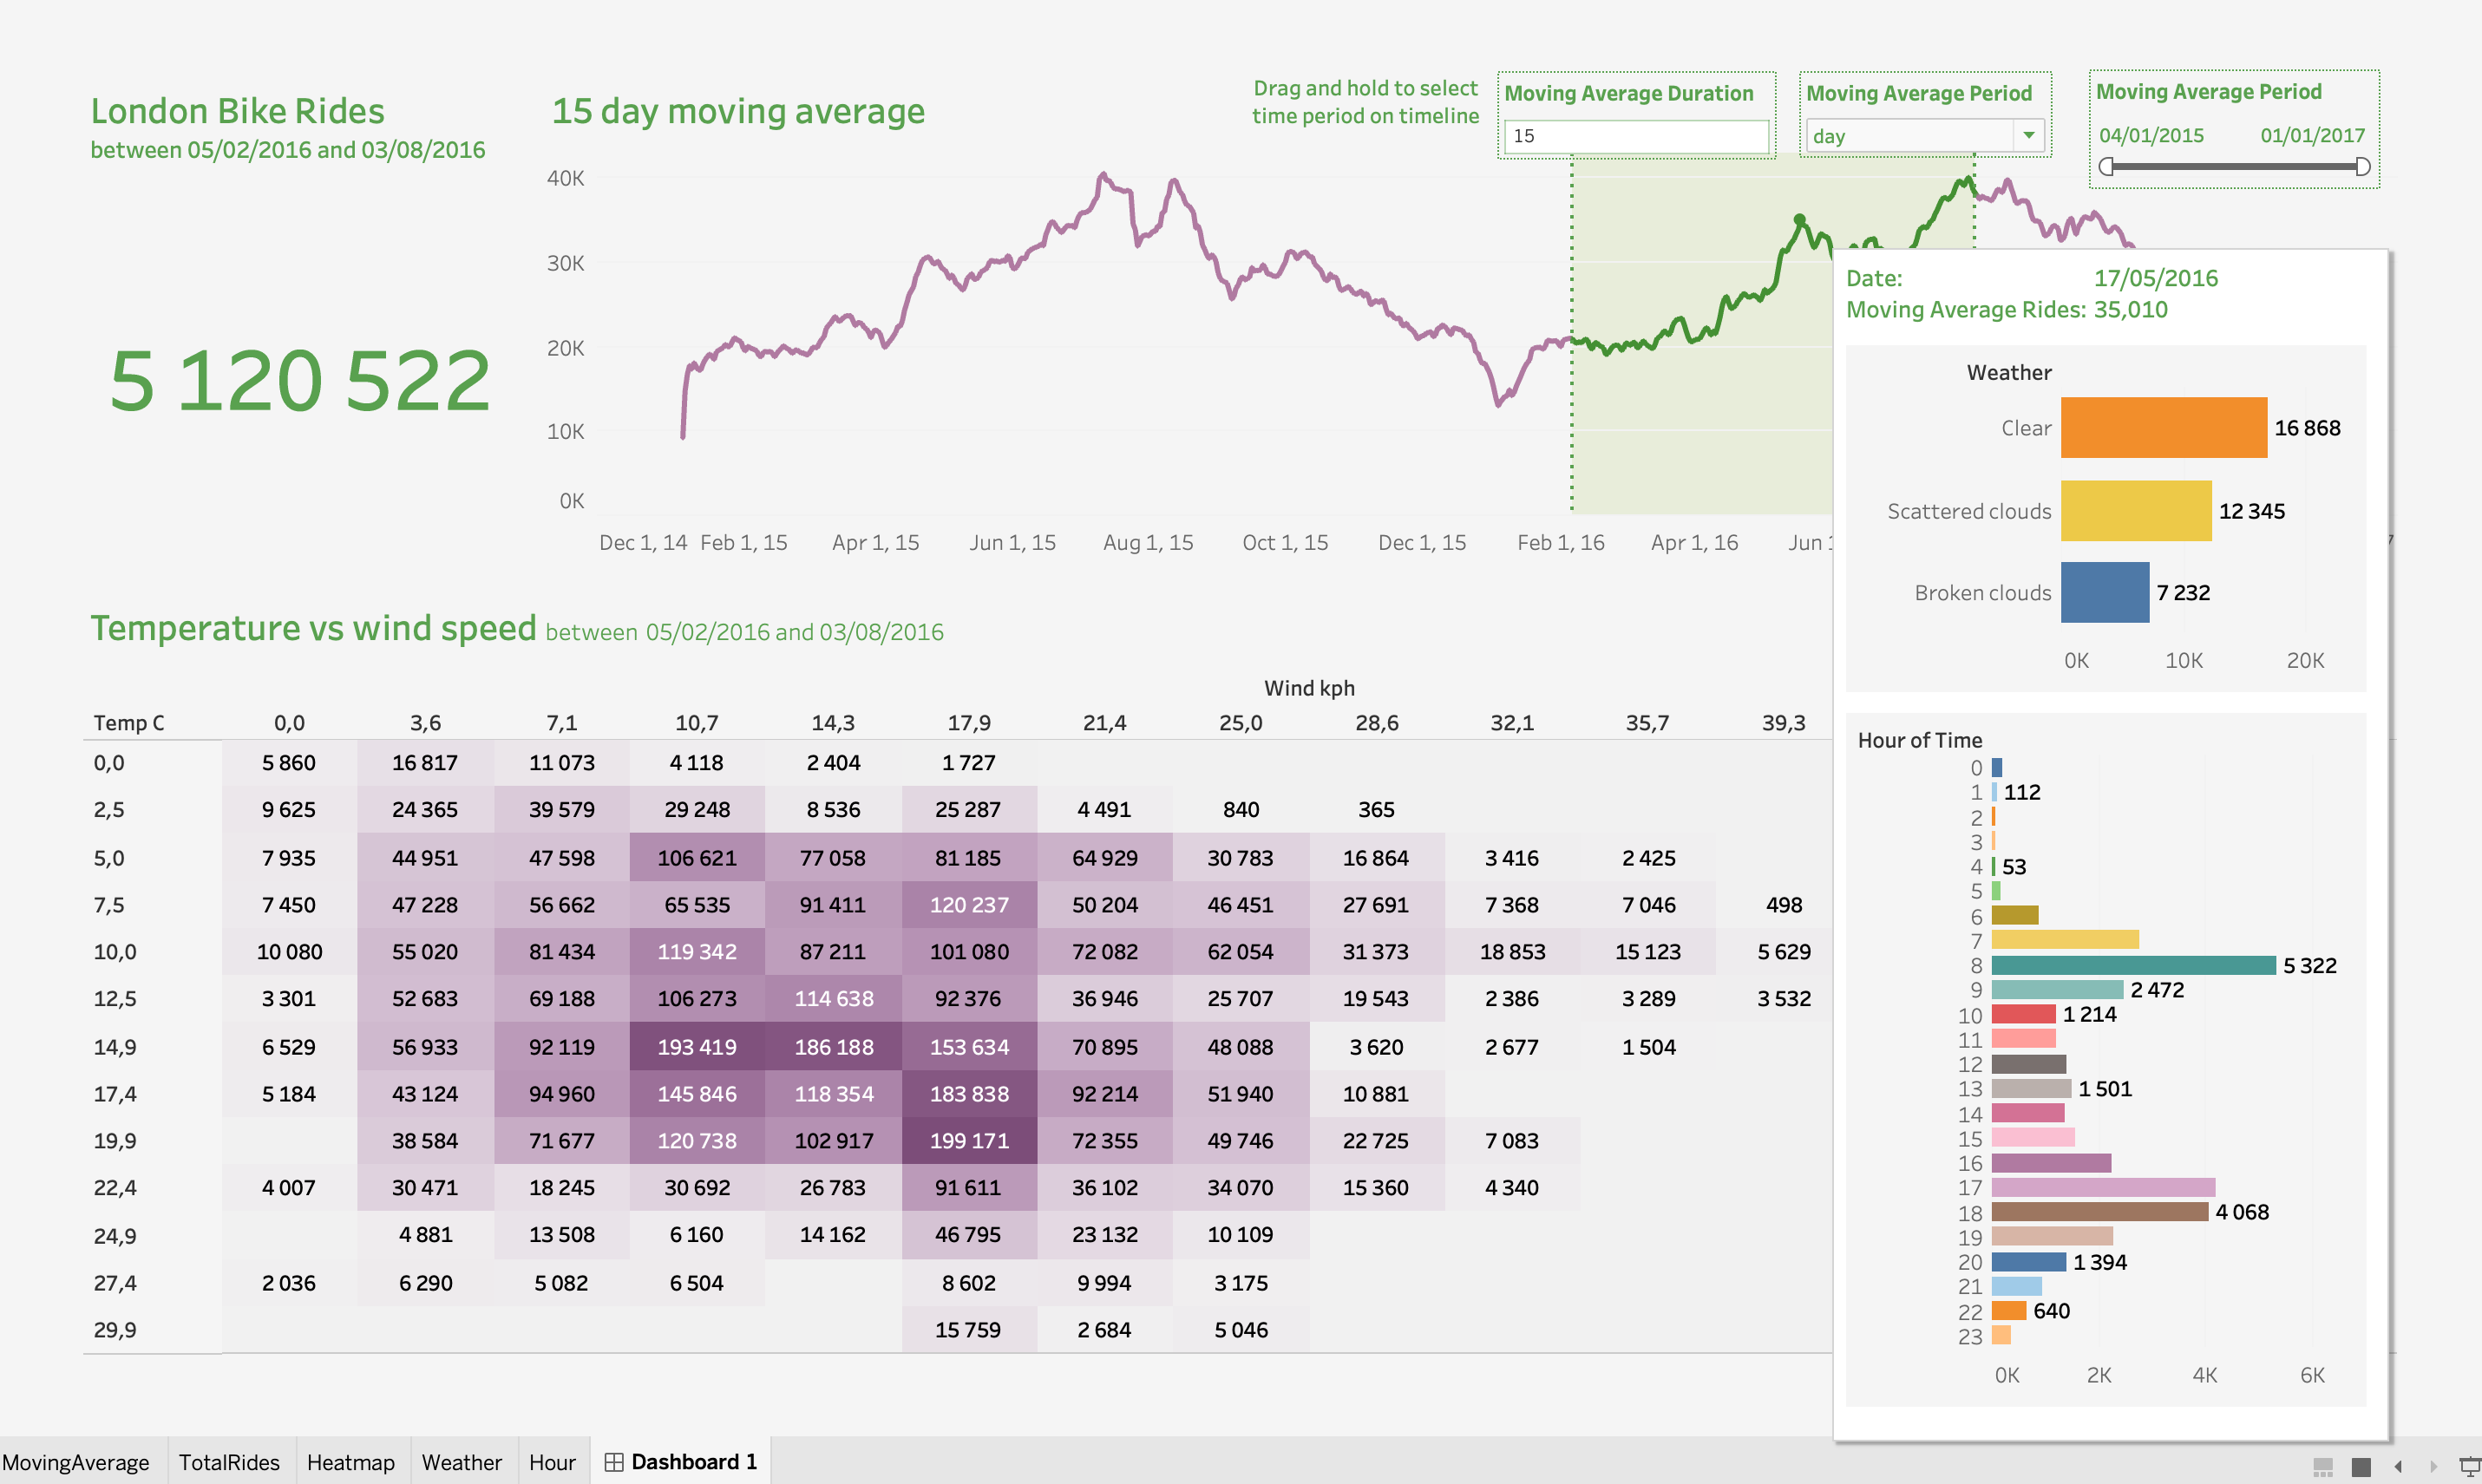

The dashboard page shown, as its layout file describes it:
{"tool":"tableau","page":{"name":"Dashboard 1","canvas":[1366,768],"ordinal":0},"visuals":[{"type":"worksheet","title":"TotalRides","mark":"Automatic","box":[8,8,265.9,298]},{"type":"worksheet","title":"MovingAverage","mark":"Automatic","rows":["Calculation1"],"cols":["Calculation_1322439863427854336"],"box":[274,8,1084,298]},{"type":"filter","title":"MovingAverage","param":"[federated.1qezdbj0tncxus19n7epf0rcv4oh].[none:Calculation_1322439863427854336:q","box":[1172,11,168,69]},{"type":"parameter","param":"[Parameters].[Parameter 2]","box":[831,12,161,51]},{"type":"parameter","param":"[Parameters].[Parameter 1]","box":[1005,12,146,50]},{"type":"text","box":[687,13,137,34]},{"type":"worksheet","title":"Heatmap","mark":"Square","rows":["temp real C (bin)"],"cols":["Wind Speed Kph (bin)"],"box":[8,306,1350,454]}]}

Visuals, with their boxes on the page's 1366x768 design canvas (x1, y1, x2, y2). These are canvas units, not pixel positions in the 2482x1484 screenshot, which may show the page scaled, cropped or inside an application window:
"TotalRides" worksheet: l=8, t=8, r=274, b=306
"MovingAverage" worksheet: l=274, t=8, r=1358, b=306
"MovingAverage" filter: l=1172, t=11, r=1340, b=80
parameter: l=831, t=12, r=992, b=63
parameter: l=1005, t=12, r=1151, b=62
text: l=687, t=13, r=824, b=47
"Heatmap" worksheet (Square marks): l=8, t=306, r=1358, b=760
